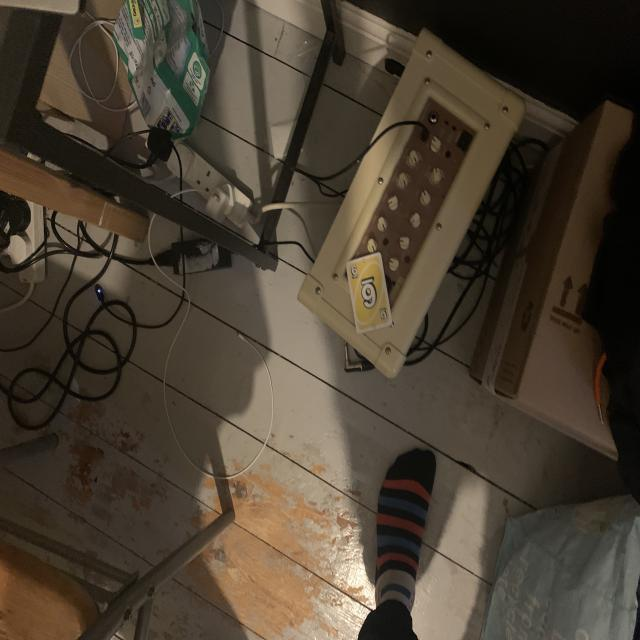lyellow-6: (349, 264, 359, 280)
